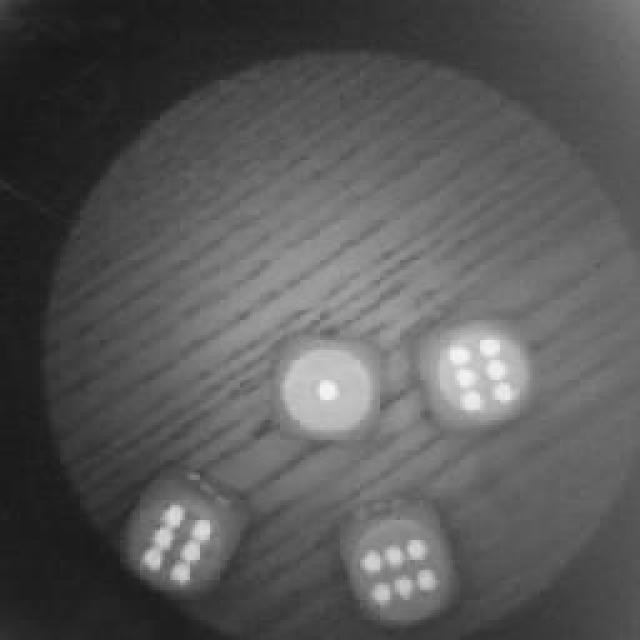dice_1: (268, 327, 388, 455)
dice_6: (115, 468, 255, 610), (330, 498, 468, 628), (413, 308, 545, 438)
